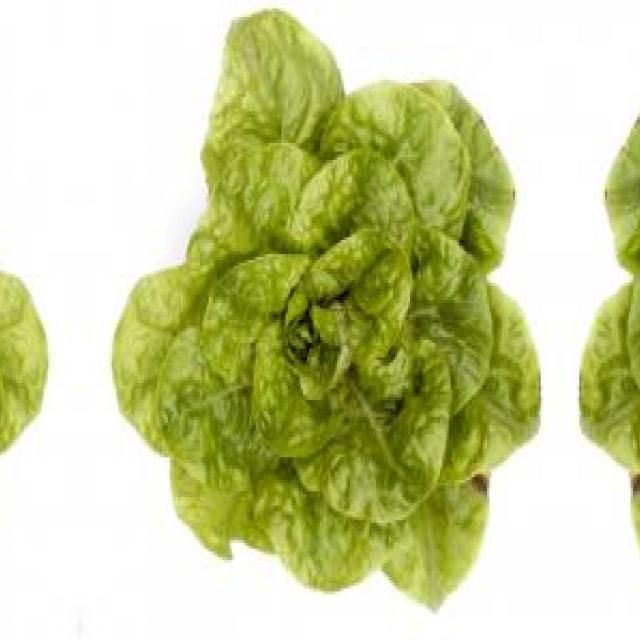healthy: (110, 12, 544, 614), (576, 12, 640, 614), (0, 12, 50, 614)
